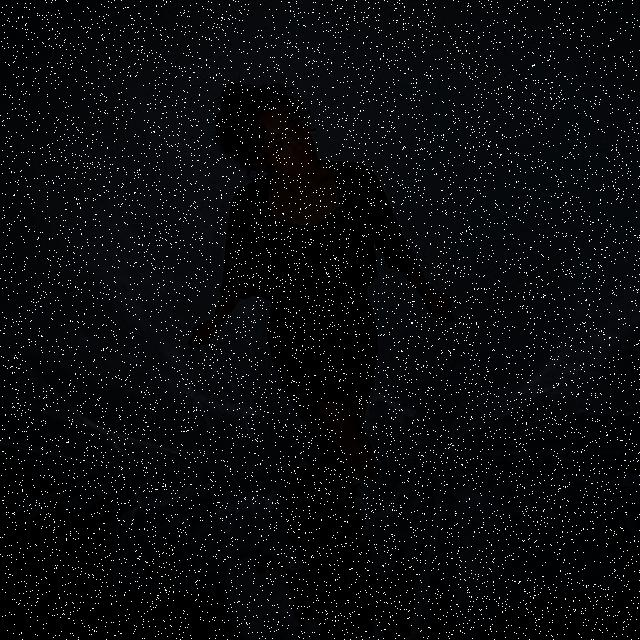dress: (215, 155, 414, 292)
